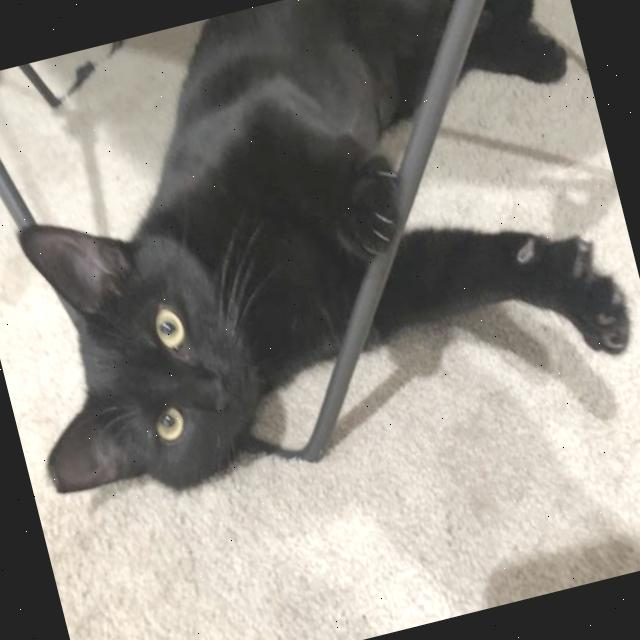american_shorthair_cat: (0, 168, 296, 530)
